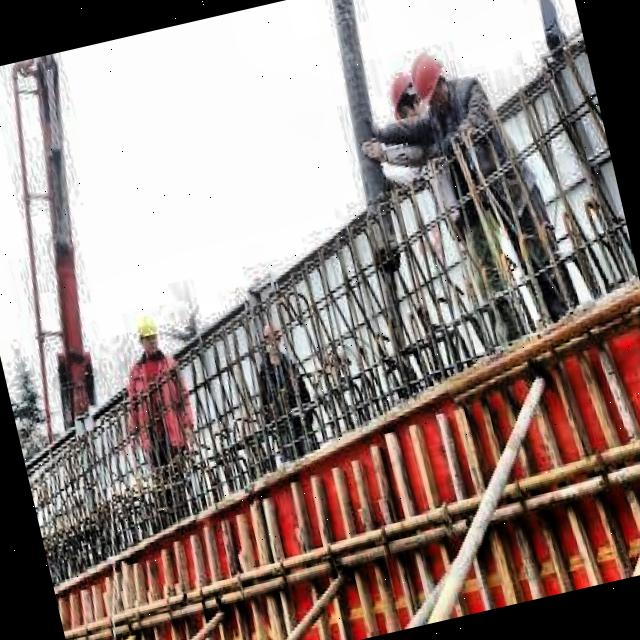helmet: (379, 61, 431, 132), (405, 47, 457, 117), (126, 304, 168, 364)
